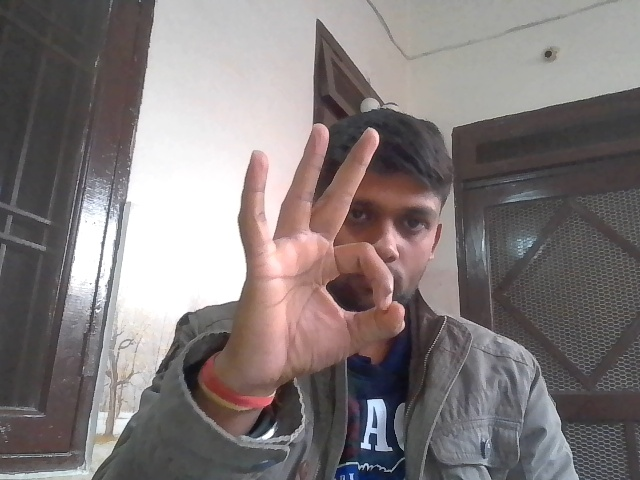Good: (217, 116, 417, 383)
